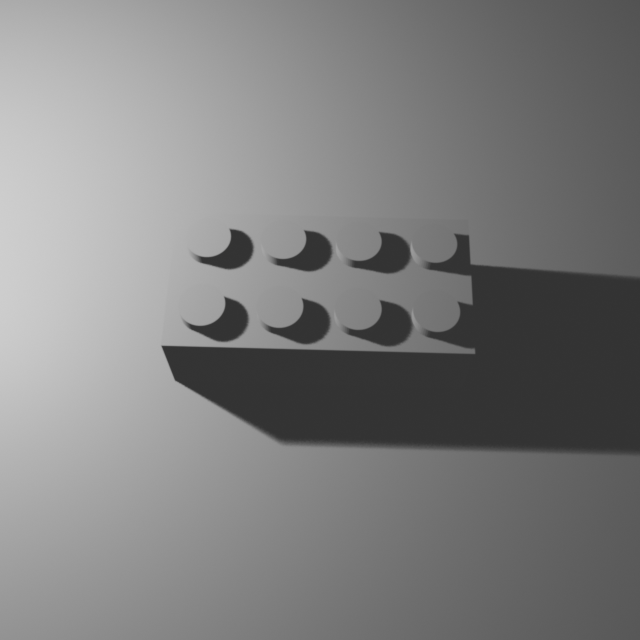lego_2x4: (158, 204, 478, 389)
